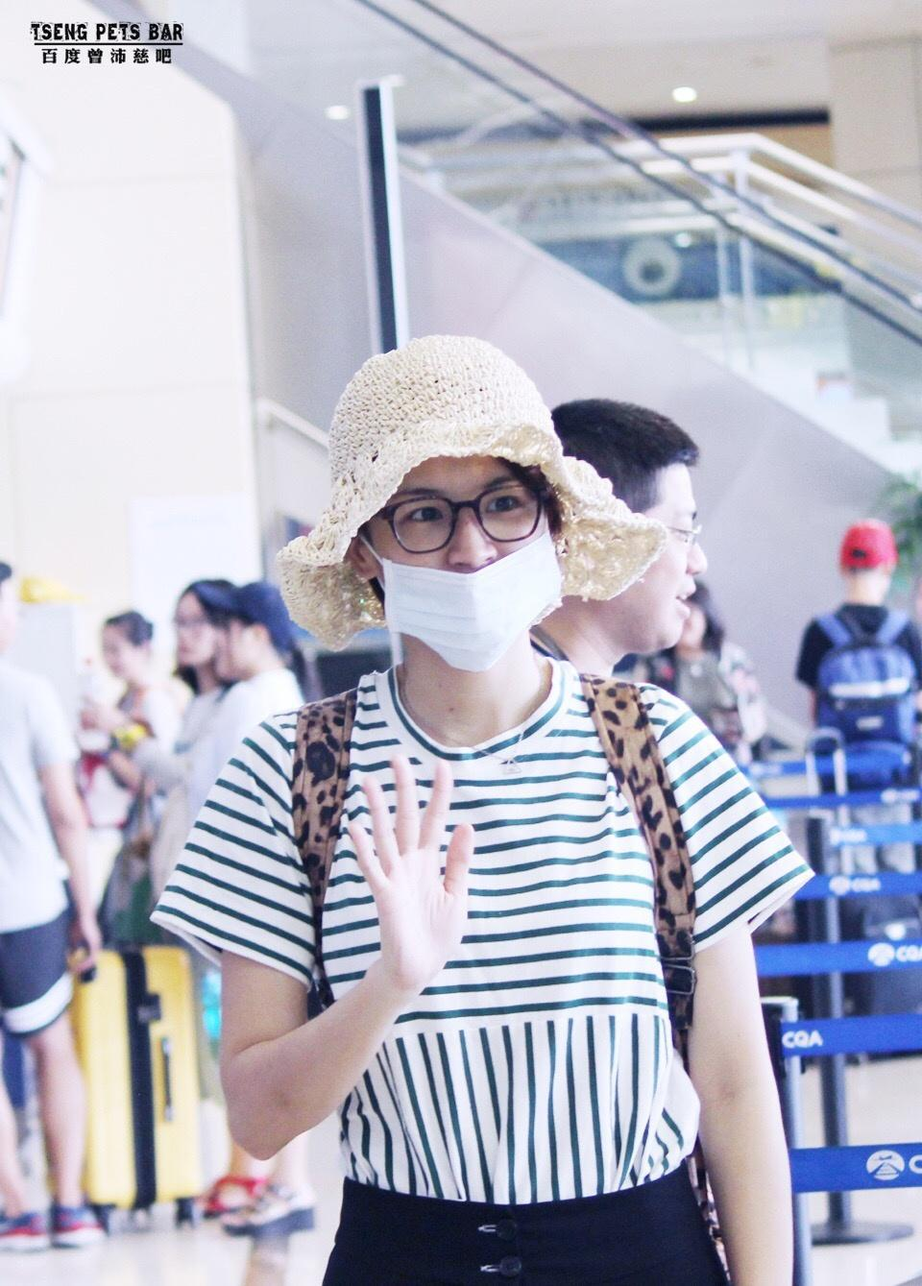NONE: (584, 507, 711, 651), (209, 622, 255, 677), (171, 613, 213, 668), (103, 638, 137, 680)
WRONG: (372, 465, 570, 664)
